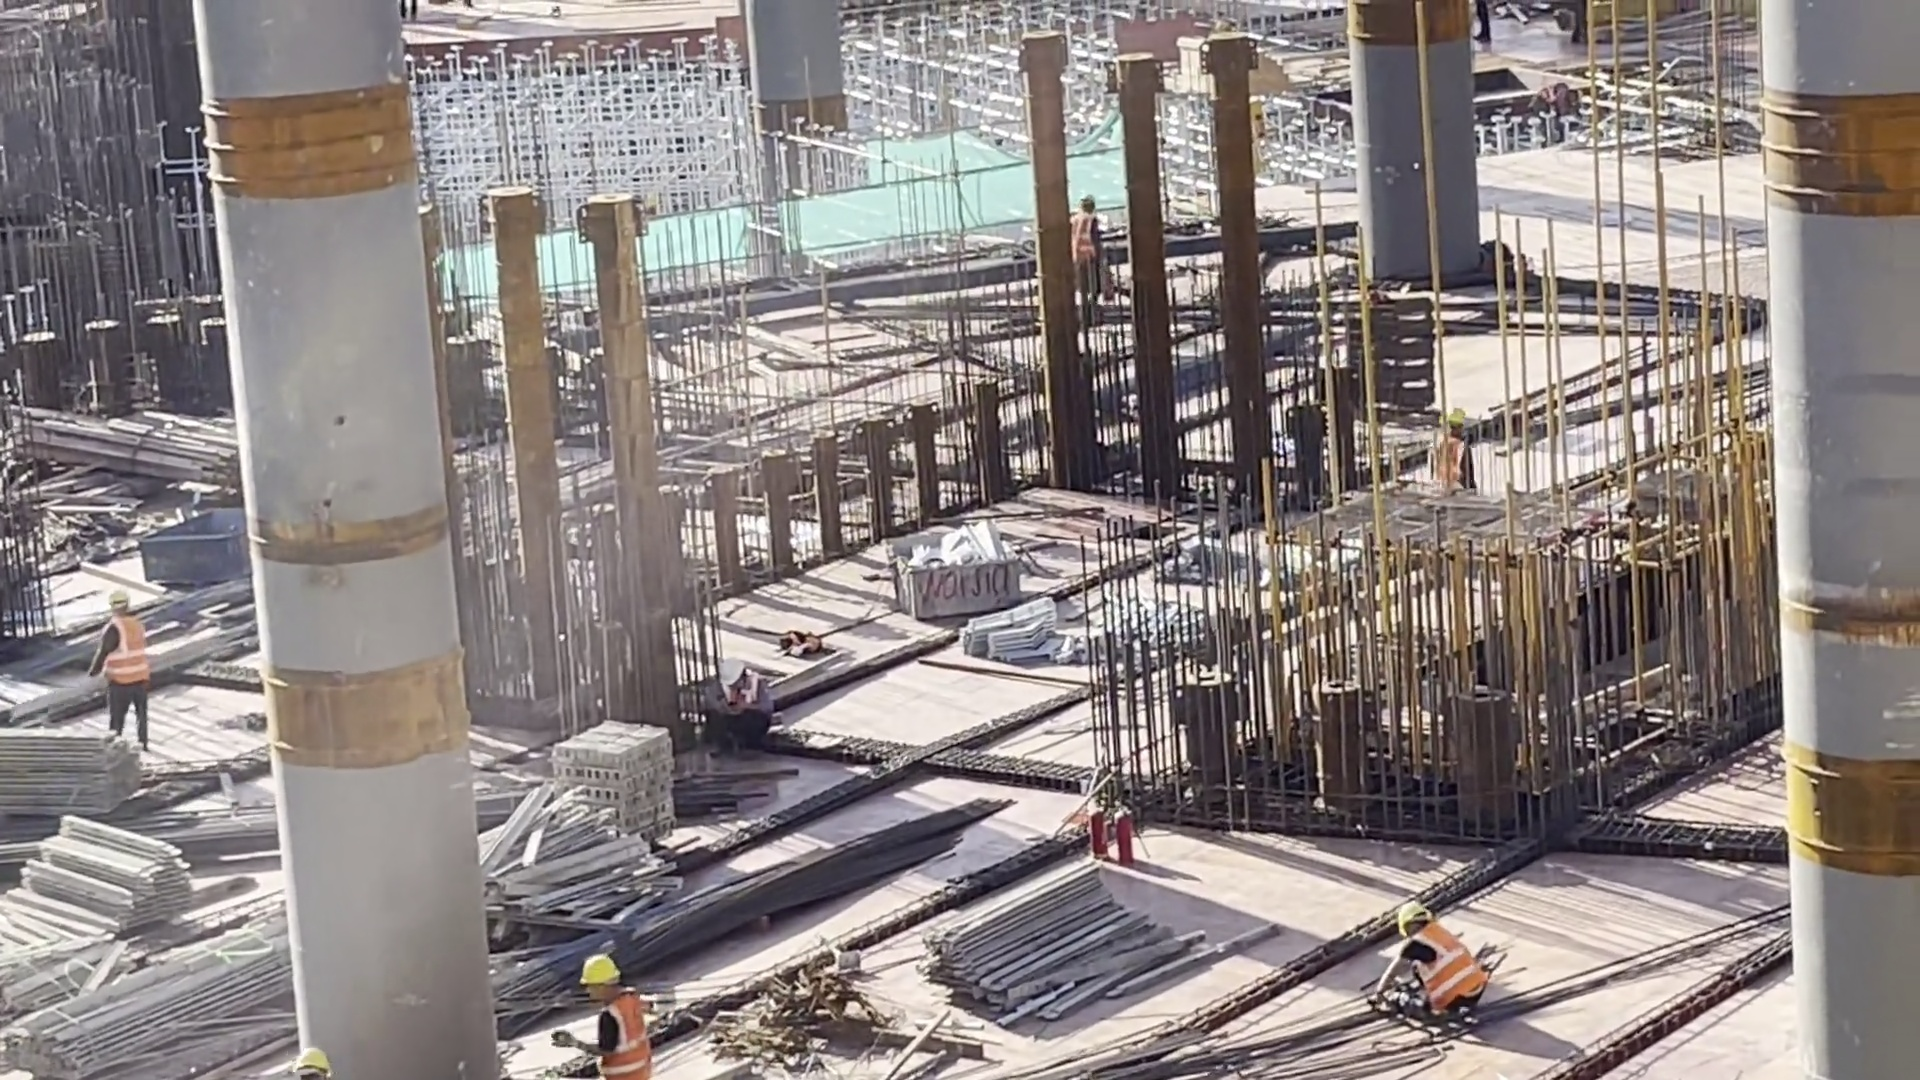helmet: (289, 1039, 334, 1080), (578, 960, 621, 987), (717, 650, 749, 680), (1397, 895, 1425, 928), (1082, 183, 1106, 206), (103, 585, 126, 606), (1443, 402, 1464, 426)
person: (1354, 904, 1508, 1028), (75, 589, 169, 765), (559, 945, 644, 1080), (689, 639, 791, 749), (1070, 191, 1130, 301), (1432, 401, 1486, 502)
vest: (1395, 920, 1488, 1011), (577, 994, 658, 1078), (99, 609, 159, 683), (1429, 428, 1471, 487), (1067, 205, 1106, 264)
